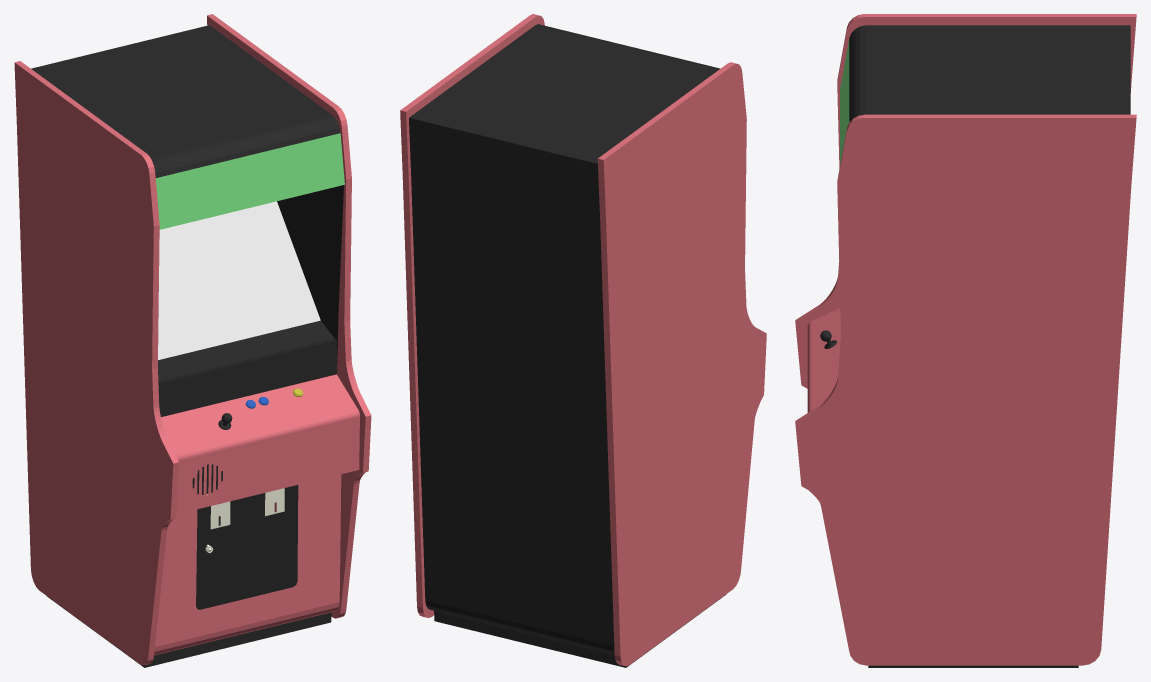
The model's file is cabinet.glb.
The picture shows the model from 3 angles, left to right: view 1: azimuth 30°, elevation 25°; view 2: azimuth 150°, elevation 25°; view 3: azimuth 270°, elevation 25°; orthographic projection. The views are drawn at different scales.
Parts seen in each view (by area): view 1: base; view 2: base; view 3: base.
Boxes of the visible parts, x1,y1,x2,y2 form: base: (14,14,371,667); base: (400,14,766,667); base: (795,14,1136,667).
Bounding box in the file's own units: 1.8 × 4.49 × 2.51.
